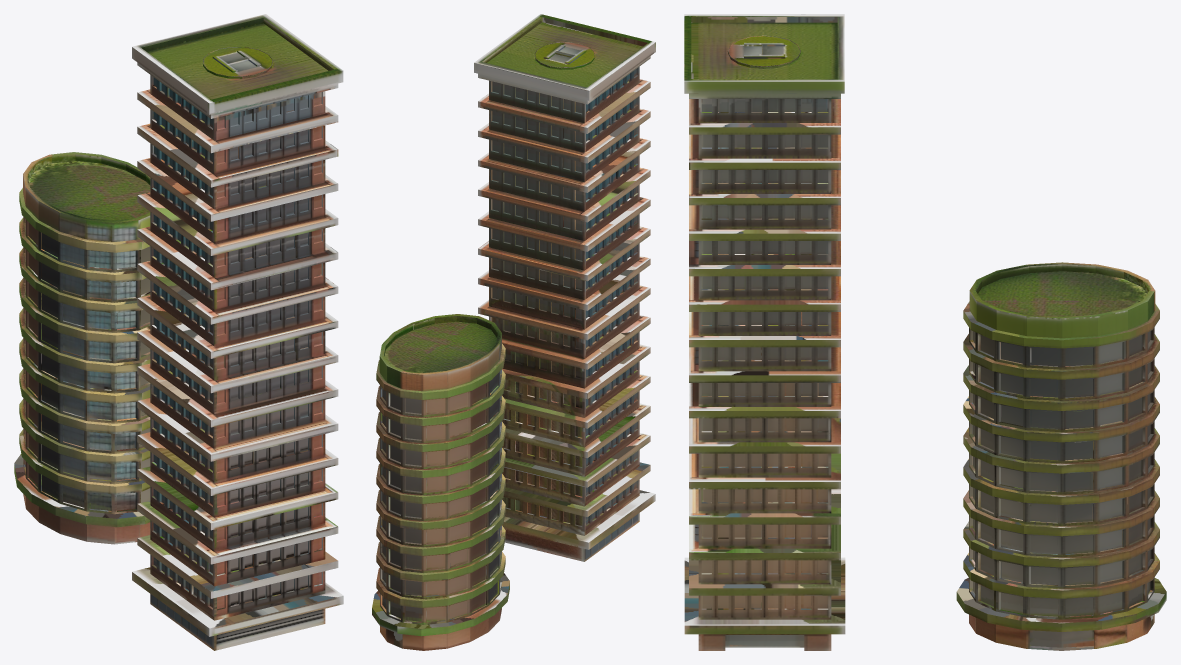
3 views of the same model, side by side, from view 1: azimuth 30°, elevation 25°; view 2: azimuth 150°, elevation 25°; view 3: azimuth 270°, elevation 25° (orthographic). The views are drawn at different scales.
Visible parts, largest first — view 1: Node; view 2: Node; view 3: Node.
Boxes of the visible parts, x1=… form: Node: x1=14, y1=14, x2=343, y2=650; Node: x1=372, y1=14, x2=655, y2=650; Node: x1=684, y1=14, x2=1166, y2=650.
Size of the model in its own units: 0.5074 by 2 by 1.52.
Materials: 1 (1 with a texture image).
